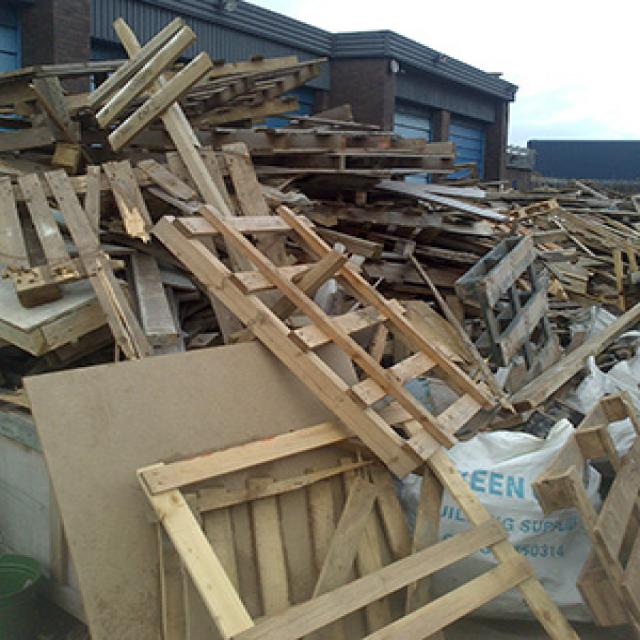green waste: (0, 26, 635, 640)
